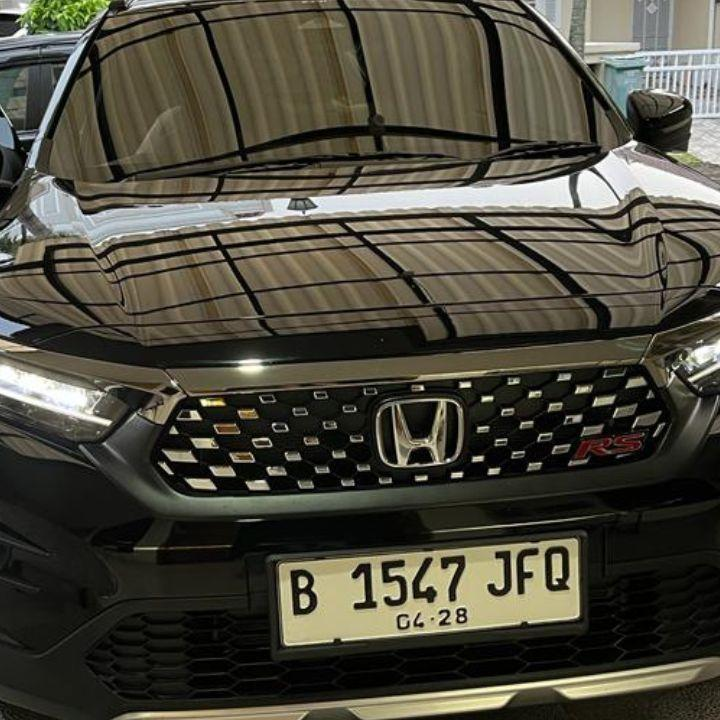plat: (277, 537, 582, 647)
